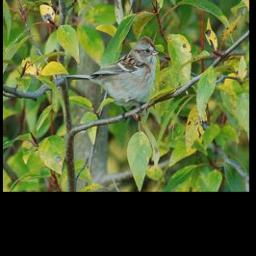Sparrow: (60, 36, 160, 121)
